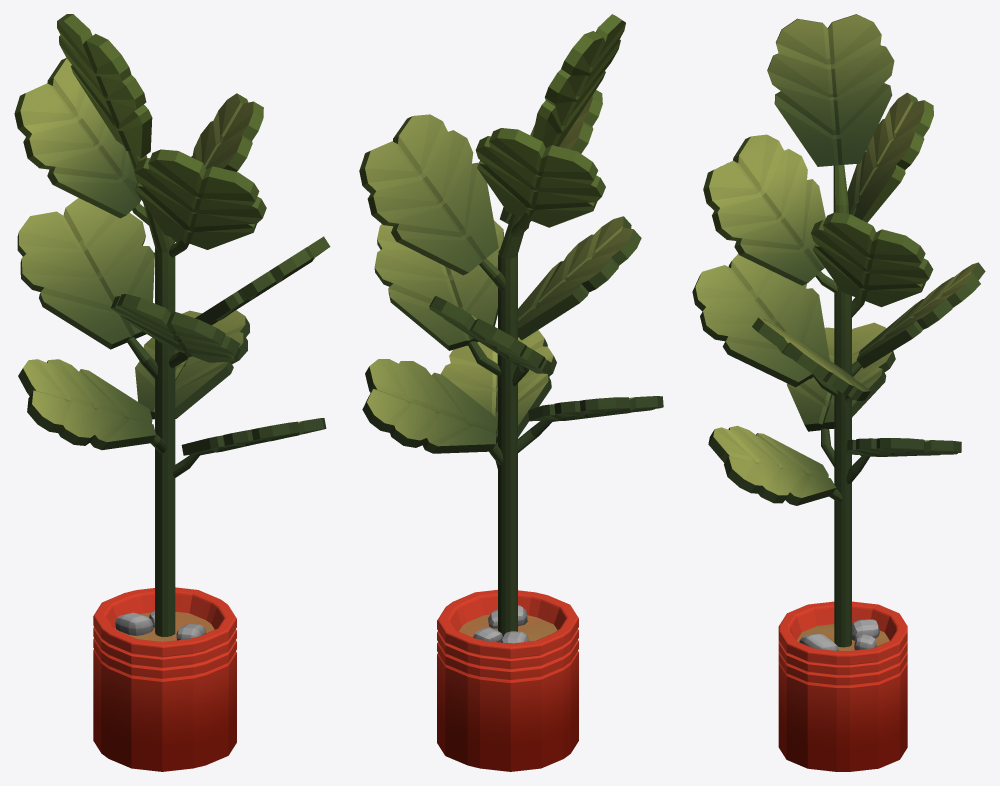
Rendered from pianta1.fbx.
3 views of the same model, side by side, from view 1: azimuth 30°, elevation 25°; view 2: azimuth 150°, elevation 25°; view 3: azimuth 270°, elevation 25° (orthographic). The views are drawn at different scales.
Visible parts, largest first — view 1: fiddle_leaf_fig_tree; view 2: fiddle_leaf_fig_tree; view 3: fiddle_leaf_fig_tree.
Boxes of the visible parts, x1,y1,x2,y2 form: fiddle_leaf_fig_tree: (14,14,330,771); fiddle_leaf_fig_tree: (359,14,663,771); fiddle_leaf_fig_tree: (692,14,985,771).
Bounding box in the file's own units: 95.31 × 232 × 89.26.
Materials: 1 (1 with a texture image).
